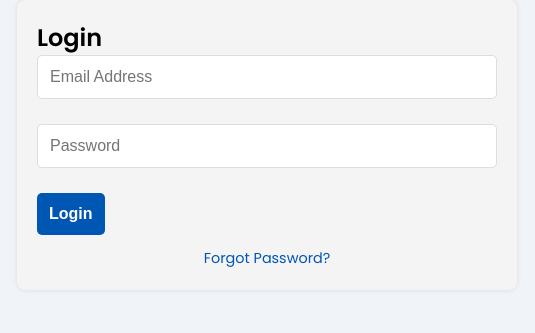
LoginForm › displays error message on failed login
Type "test@example.com" into the field with placeholder "Email Address".
click(267, 77); type("test@example.com")  # box x1=37 y1=55 x2=497 y2=99
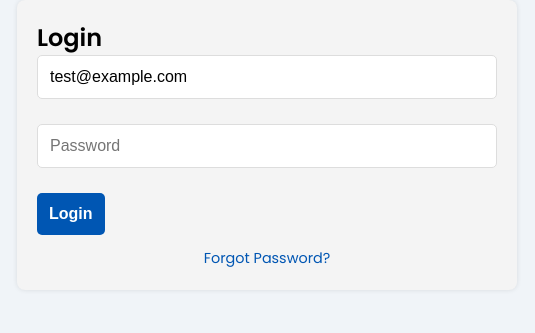
Type "wrongpassword" into the password field with placeholder "Password".
click(267, 146); type("wrongpassword")  # box x1=37 y1=124 x2=497 y2=168
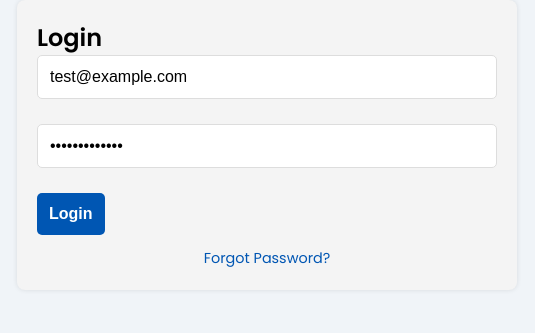
Click the button "Login".
click(71, 214)  # box x1=37 y1=193 x2=104 y2=235
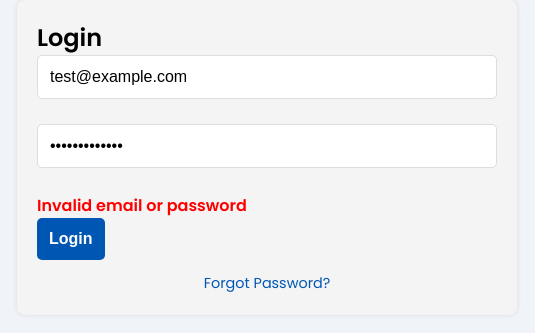
Expected: the text "Invalid email or password" is shown, x1=37 y1=194 x2=247 y2=217
